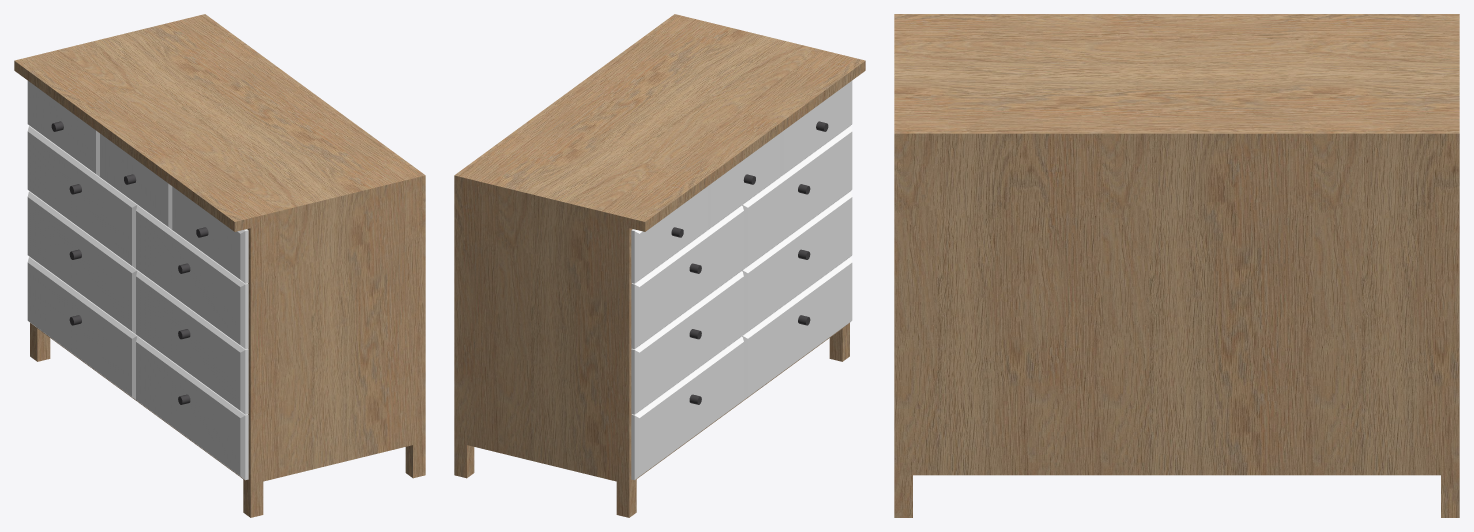
The model's file is Drawer.FBX.
3 views of the same model, side by side, from view 1: azimuth 30°, elevation 25°; view 2: azimuth 150°, elevation 25°; view 3: azimuth 270°, elevation 25° (orthographic). The views are drawn at different scales.
Visible parts, largest first — view 1: Drawer; view 2: Drawer; view 3: Drawer.
Part boxes in pixels (box(x1,y1,x2,y2)): Drawer: box(14, 14, 425, 517); Drawer: box(454, 14, 865, 517); Drawer: box(894, 14, 1459, 517).
Size of the model in its own units: 60 by 90 by 120.
